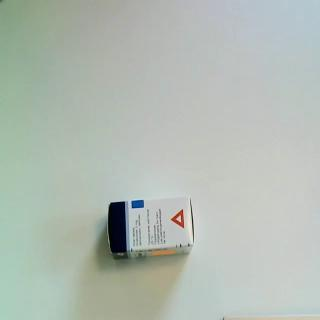xanor2mg: (106, 194, 196, 262)
